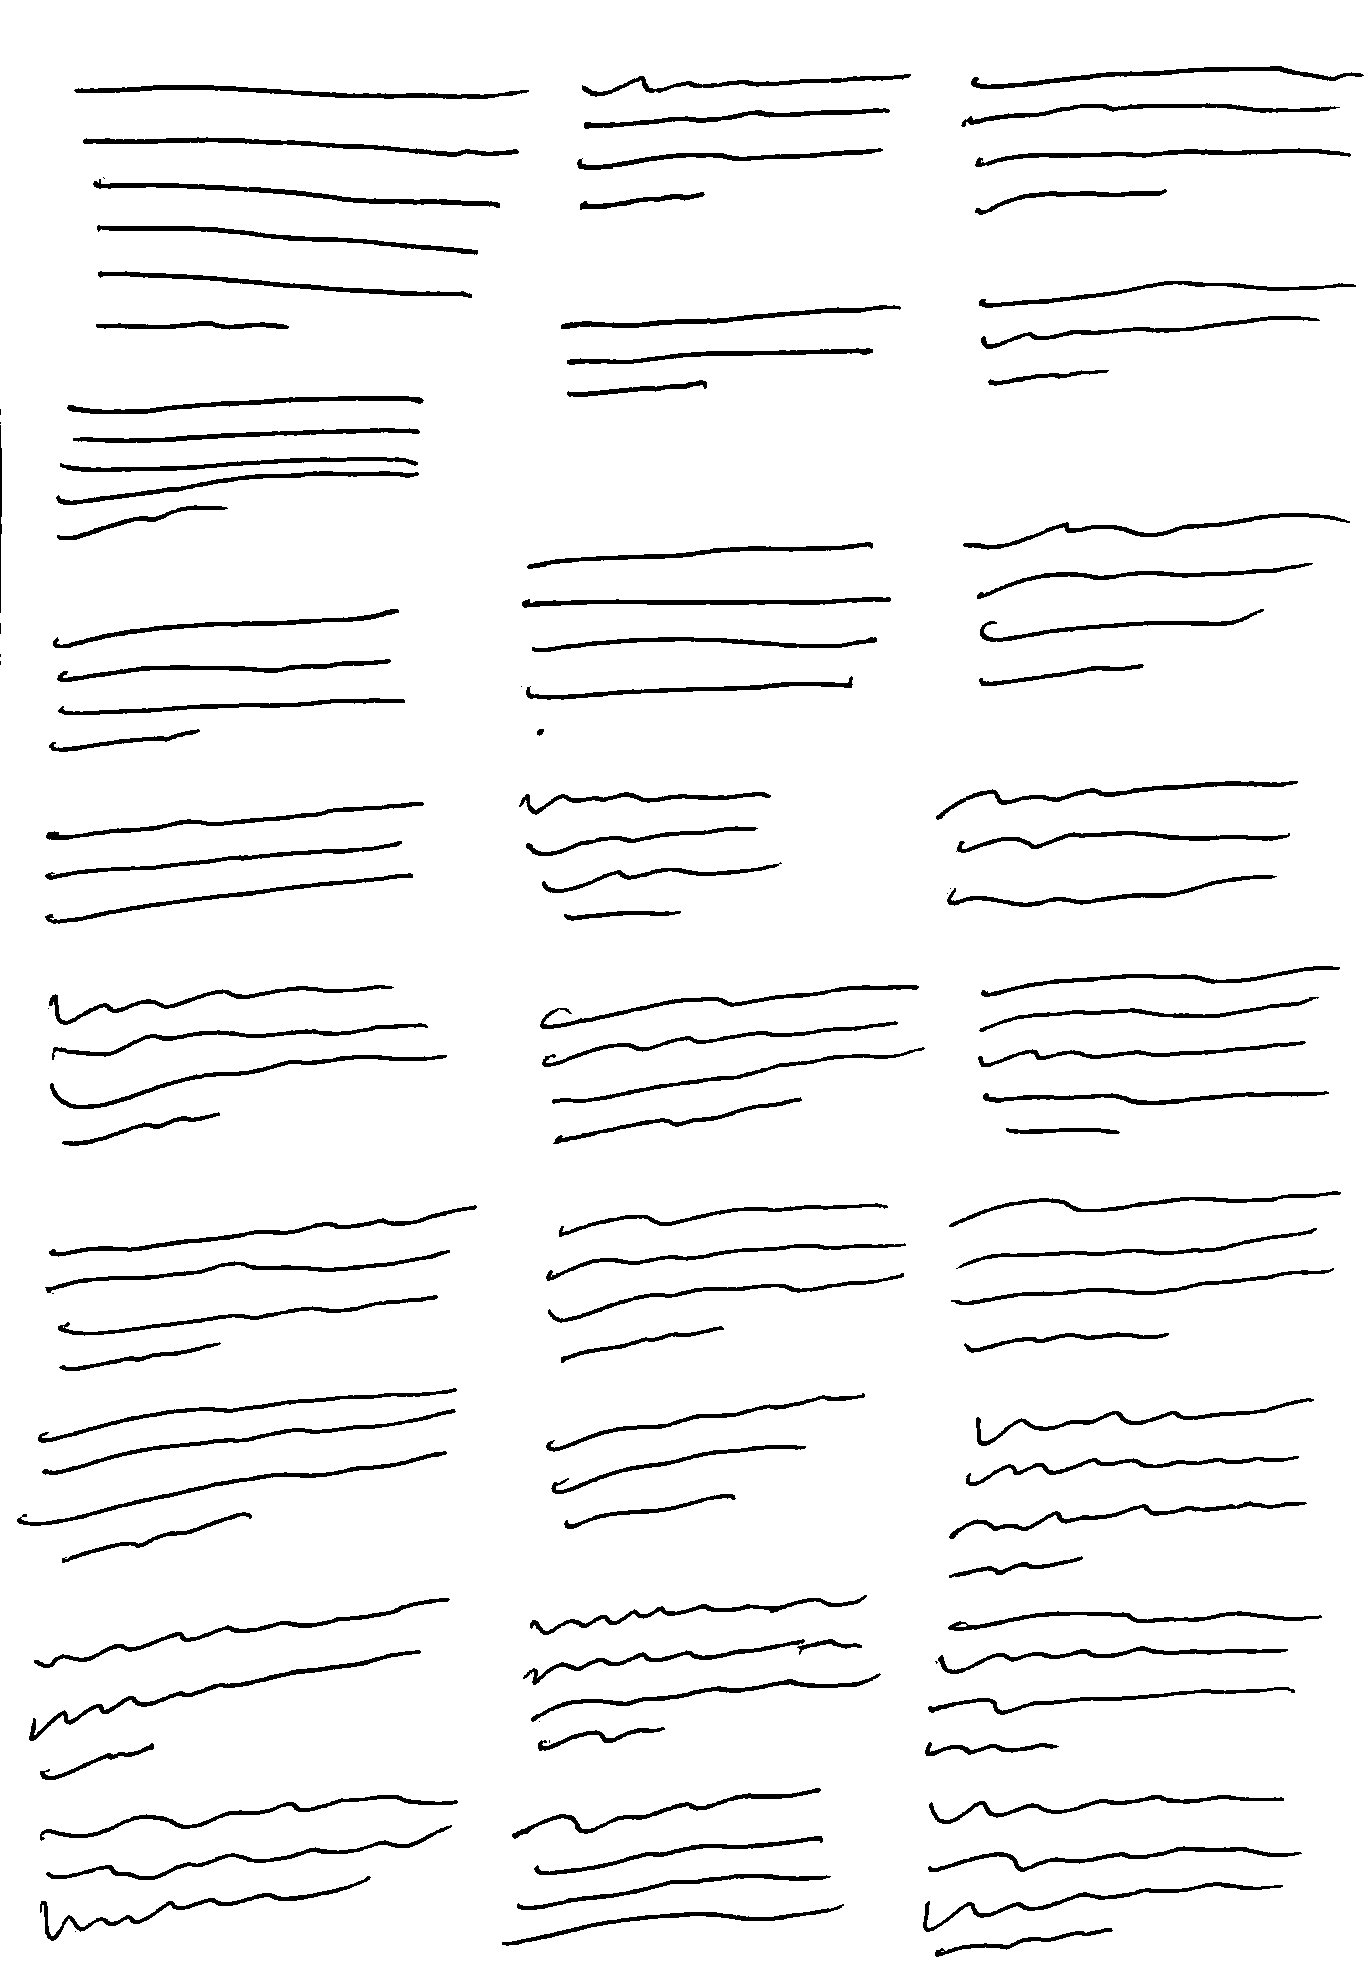Paragraph: (63, 75, 537, 341), (12, 1385, 464, 1572), (39, 1196, 482, 1379), (23, 1594, 455, 1780), (956, 505, 1349, 698), (38, 977, 451, 1155), (942, 1395, 1327, 1584), (537, 977, 941, 1150), (516, 532, 897, 712), (948, 1186, 1349, 1357), (920, 1788, 1312, 1961), (27, 1785, 457, 1942), (954, 57, 1354, 225), (921, 1603, 1331, 1765), (974, 960, 1343, 1140), (44, 390, 431, 550), (517, 1592, 890, 1756), (541, 1199, 908, 1364), (42, 600, 415, 761), (501, 1785, 862, 1948), (38, 793, 433, 935), (564, 66, 924, 220), (927, 775, 1301, 912), (541, 1388, 876, 1535), (971, 271, 1366, 389), (556, 292, 908, 407), (514, 787, 787, 923)
